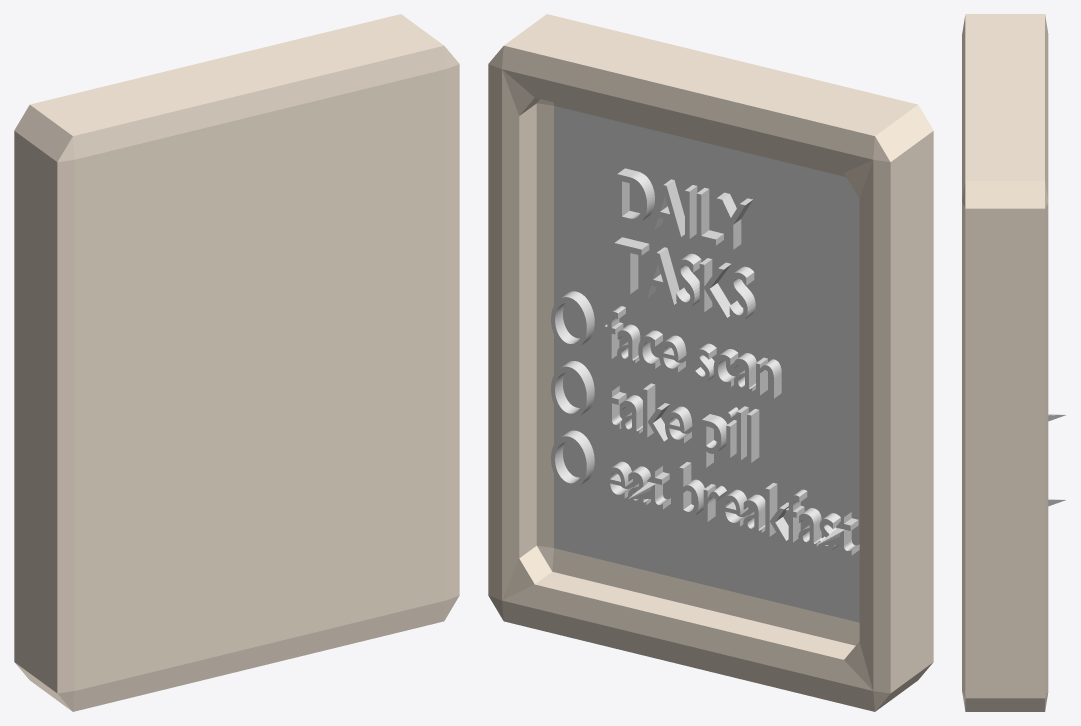
File: DailyTask.ul.fbx
The picture shows the model from 3 angles, left to right: view 1: azimuth 30°, elevation 25°; view 2: azimuth 150°, elevation 25°; view 3: azimuth 270°, elevation 25°; orthographic projection. The views are drawn at different scales.
Parts seen in each view (by area): view 1: Sign; view 2: Sign, Text; view 3: Sign.
Boxes of the visible parts, bbox=[...] form: Sign: bbox=[14, 14, 459, 711]; Sign: bbox=[488, 14, 933, 711]; Text: bbox=[551, 168, 859, 556]; Sign: bbox=[962, 14, 1048, 711].
Size of the model in its own units: 100 by 137 by 24.47.
